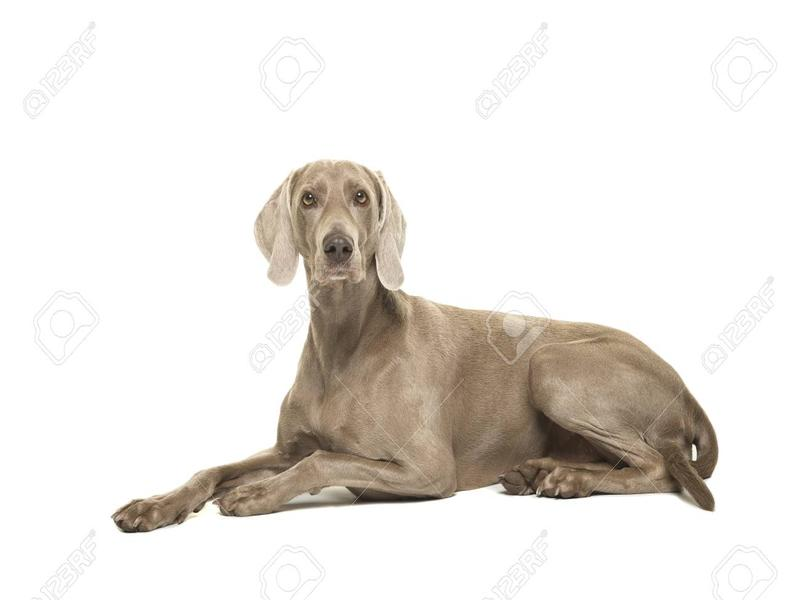dog_down: (114, 157, 720, 531)
